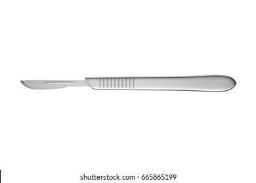scalpel: (19, 74, 237, 94)
